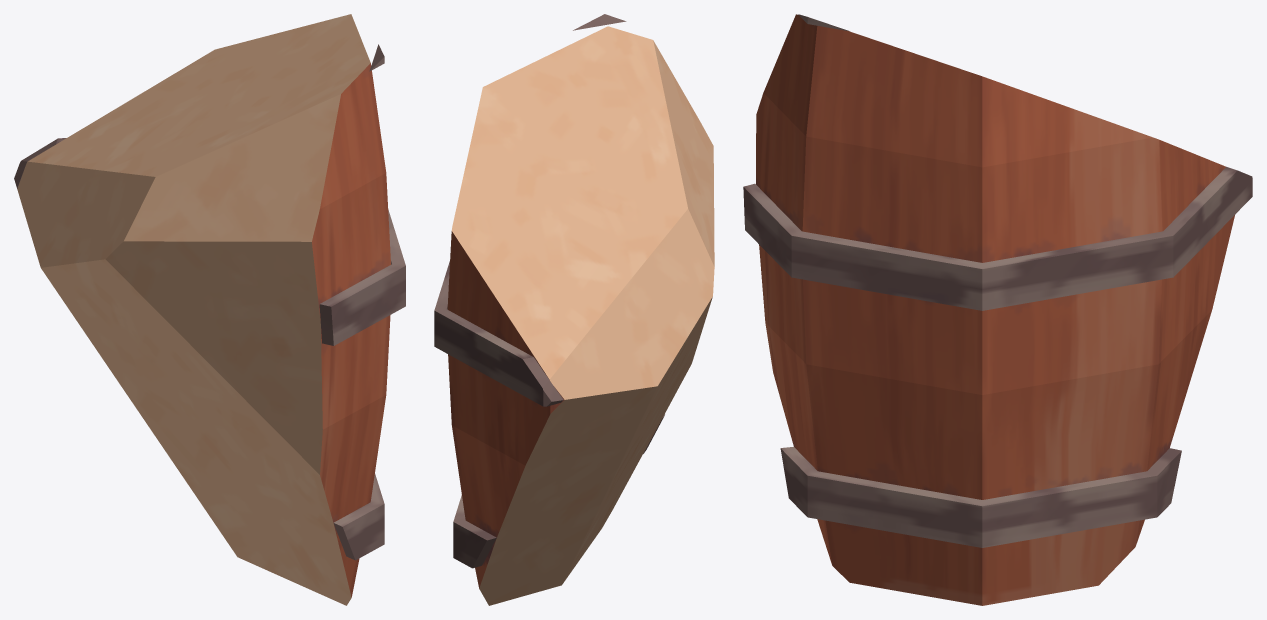
The model's file is barrel_s04.fbx.
3 renders of one model, left to right at view 1: azimuth 30°, elevation 25°; view 2: azimuth 150°, elevation 25°; view 3: azimuth 270°, elevation 25°, orthographic. The views are drawn at different scales.
Parts seen in each view (by area): view 1: barrel_s04; view 2: barrel_s04; view 3: barrel_s04.
Part boxes in pixels (box(x1,y1,x2,y2)): barrel_s04: box(14, 14, 405, 605); barrel_s04: box(434, 14, 714, 605); barrel_s04: box(743, 14, 1252, 605).
Bounding box in the file's own units: 1.6 × 3.03 × 2.43.
